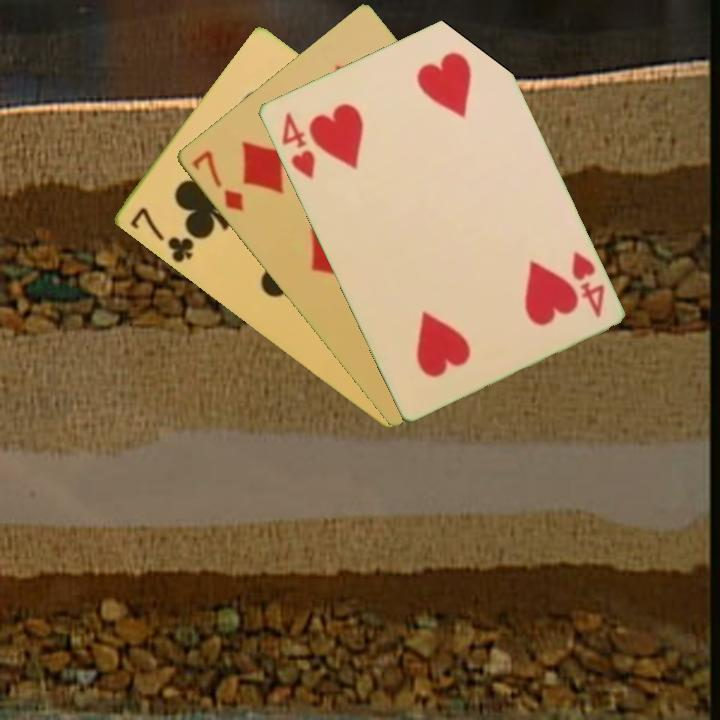4h: (277, 109, 318, 182), (567, 248, 607, 320)
7c: (126, 204, 197, 266)
7d: (187, 147, 247, 214)
